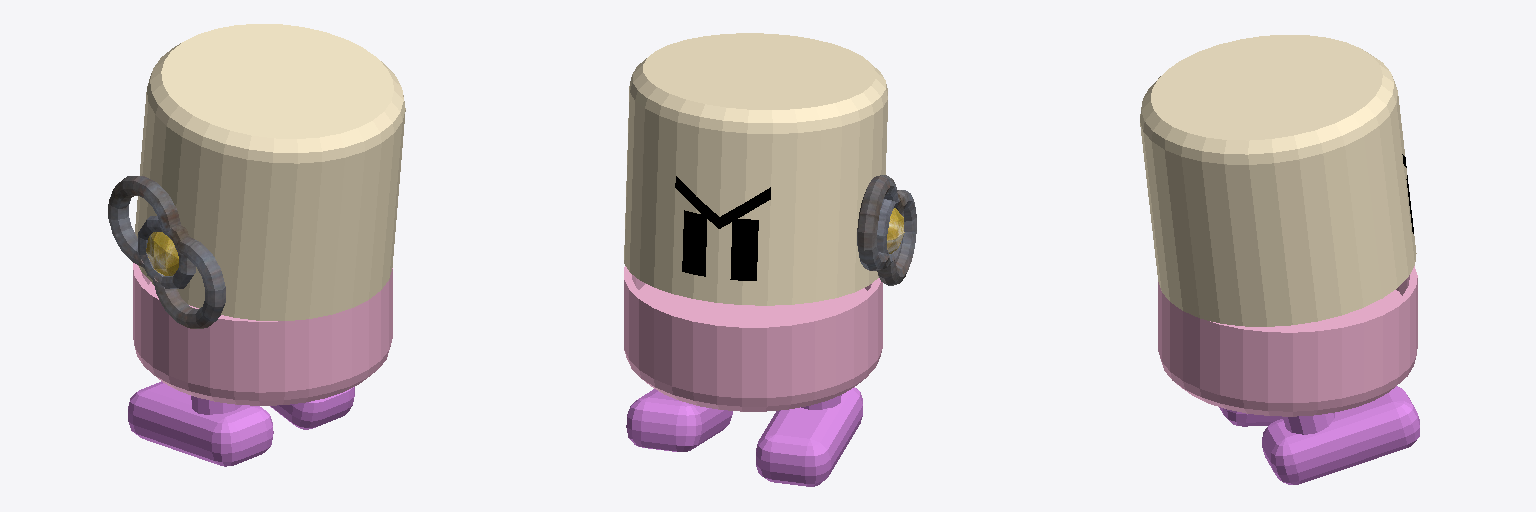
The picture shows the model from 3 angles: view 1: azimuth 30°, elevation 25°; view 2: azimuth 150°, elevation 25°; view 3: azimuth 270°, elevation 25°; orthographic projection.
Visible parts, largest first — view 1: Head, Jaw, WindupKey, LeftLeg, RightLeg; view 2: Head, Jaw, LeftLeg, WindupKey, RightLeg; view 3: Head, Jaw, RightLeg, LeftLeg.
Boxes of the visible parts, x1=… form: Head: x1=135, y1=24, x2=405, y2=320; Jaw: x1=133, y1=263, x2=392, y2=405; WindupKey: x1=108, y1=176, x2=225, y2=328; LeftLeg: x1=128, y1=381, x2=273, y2=466; RightLeg: x1=270, y1=387, x2=354, y2=429; Head: x1=624, y1=33, x2=887, y2=305; Jaw: x1=624, y1=266, x2=882, y2=411; LeftLeg: x1=756, y1=387, x2=862, y2=486; WindupKey: x1=857, y1=175, x2=916, y2=285; RightLeg: x1=626, y1=389, x2=732, y2=451; Head: x1=1140, y1=35, x2=1416, y2=326; Jaw: x1=1158, y1=266, x2=1417, y2=416; RightLeg: x1=1262, y1=386, x2=1419, y2=484; LeftLeg: x1=1219, y1=407, x2=1282, y2=426.
Bounding box in the file's own units: 113 × 159 × 108.
Materials: 6 (2 with a texture image).